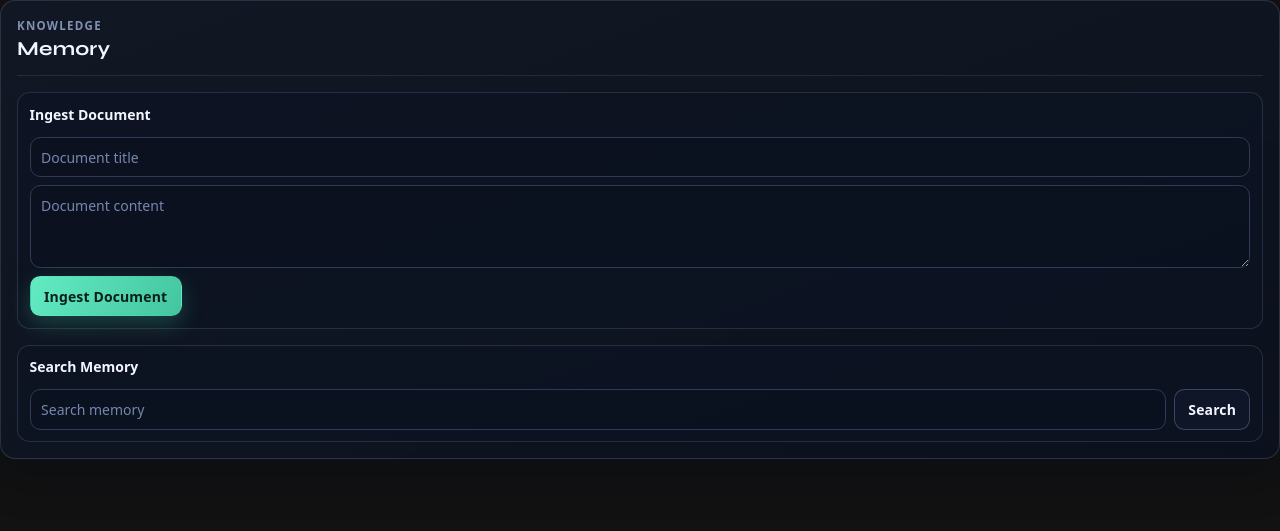
Test: MemoryPanel › shows search errors
Type "agent" into the field with placeholder "Search memory".
click(598, 410); type("agent")  # box left=30, top=389, right=1166, bottom=430
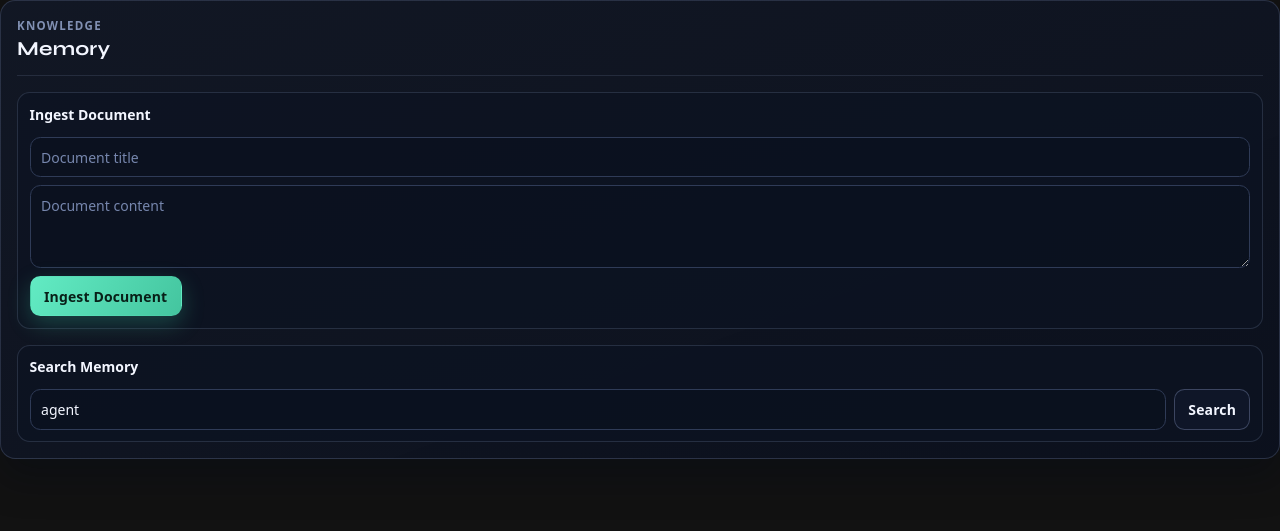
Click the button "Search".
click(1212, 410)  # box left=1174, top=389, right=1250, bottom=430
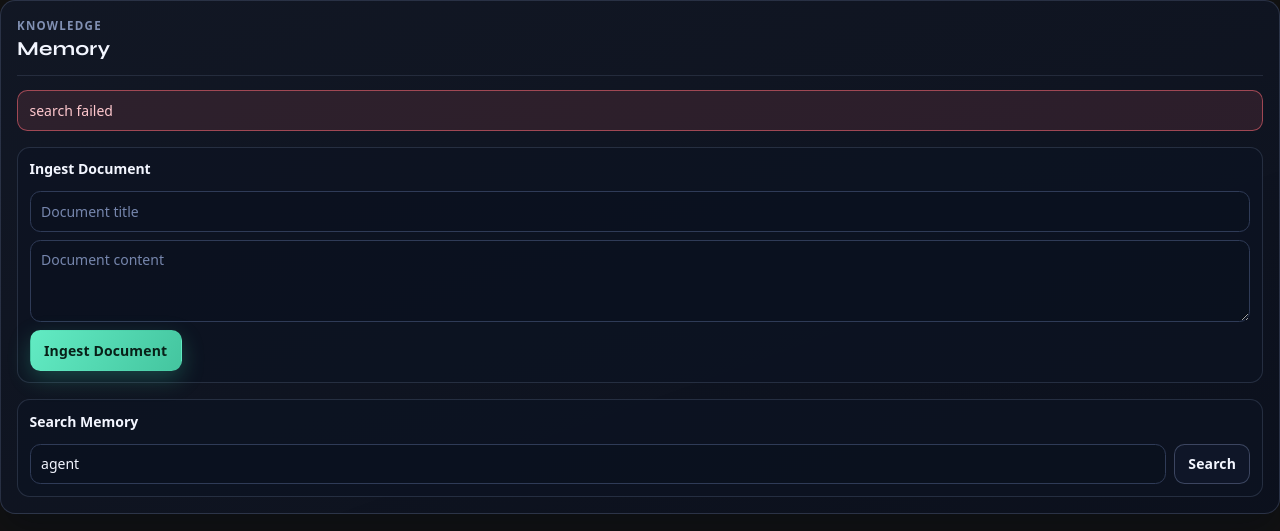
Expected: the text "search failed" is shown, left=17, top=90, right=1263, bottom=131
